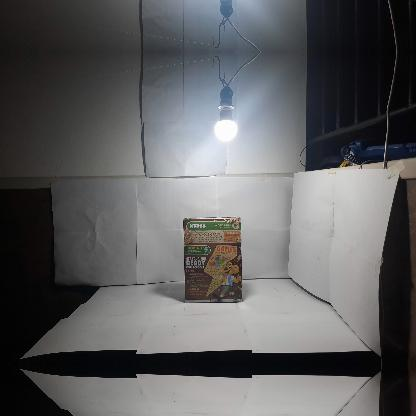Koko-Krunch: (182, 216, 242, 302)
